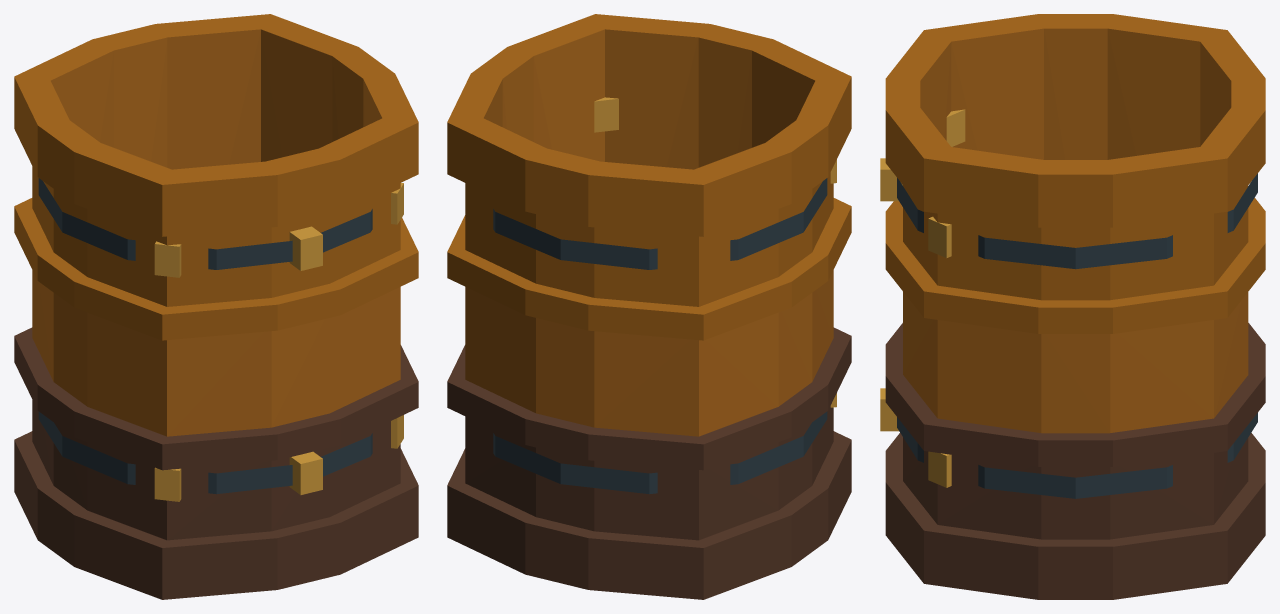
Rendered from open-barrel-butter.glb.
The picture shows the model from 3 angles, left to right: view 1: azimuth 30°, elevation 25°; view 2: azimuth 150°, elevation 25°; view 3: azimuth 270°, elevation 25°; orthographic projection. The views are drawn at different scales.
Visible parts, largest first — view 1: open-barrel-butter; view 2: open-barrel-butter; view 3: open-barrel-butter.
Boxes of the visible parts, bbox=[...] form: open-barrel-butter: bbox=[14, 14, 418, 599]; open-barrel-butter: bbox=[447, 14, 851, 599]; open-barrel-butter: bbox=[880, 14, 1265, 599].
Size of the model in its own units: 0.68 by 0.84 by 0.6899.
